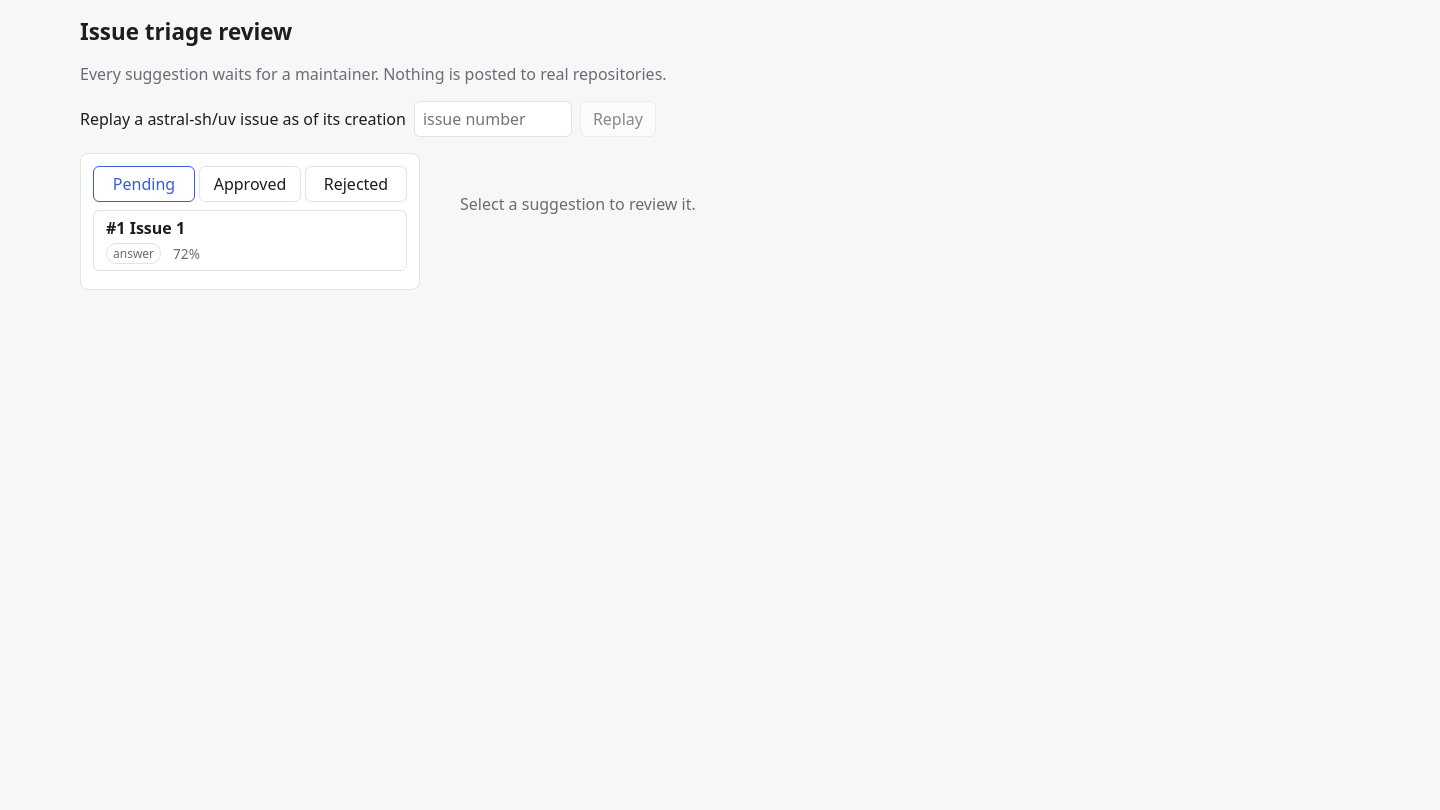
Scenario: run detail and review actions › shows the draft beside the issue with its evidence
The width and height of the screenshot is (1440, 810).
What coordinates should you click on to do the following:
click the button "#1 Issue 1 answer 72%"
I would click on:
 (157, 228)
Its box is [93, 210, 407, 271].
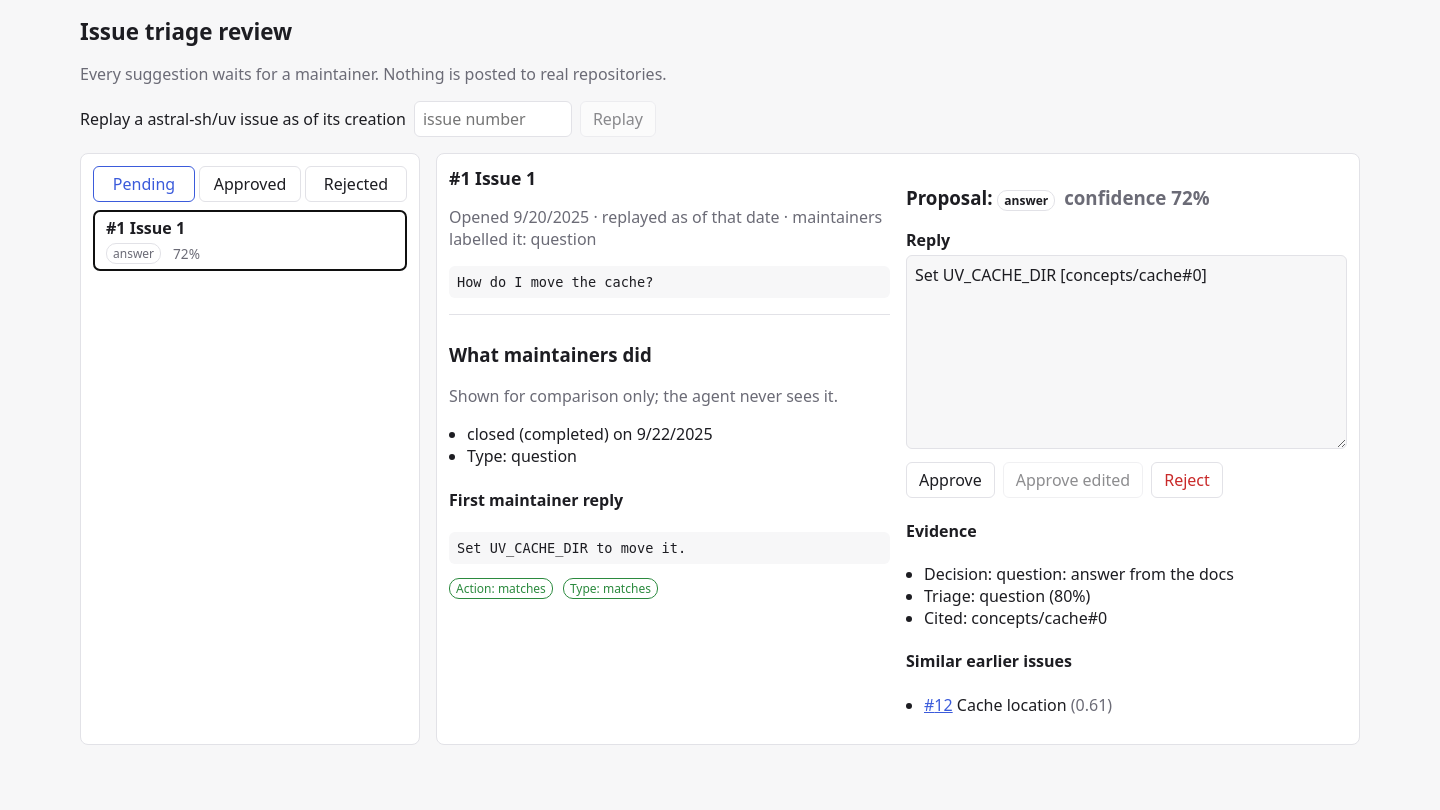
Now the heading "#1 Issue 1" is shown, box [449, 166, 536, 190]
Now the text "How do I move the cache?" is shown, box [449, 266, 890, 298]
Now the text box labelled "Reply" holds "Set UV_CACHE_DIR [concepts/cache#0]", box [906, 255, 1347, 449]
